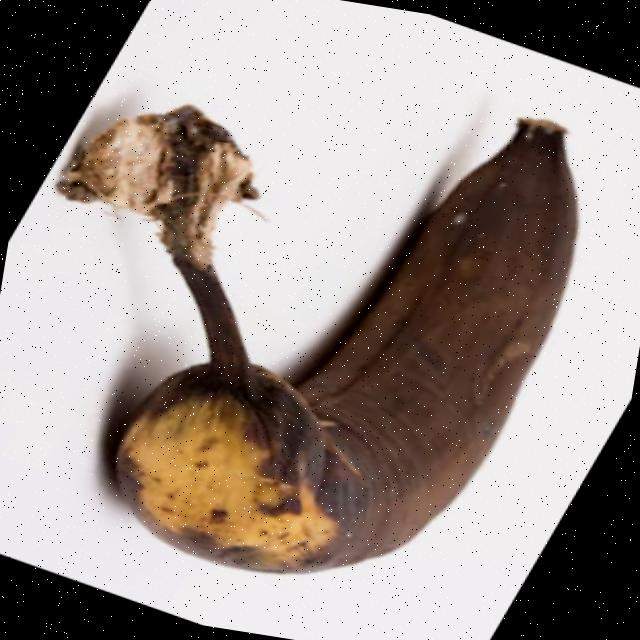Rotten: (12, 46, 604, 617)
